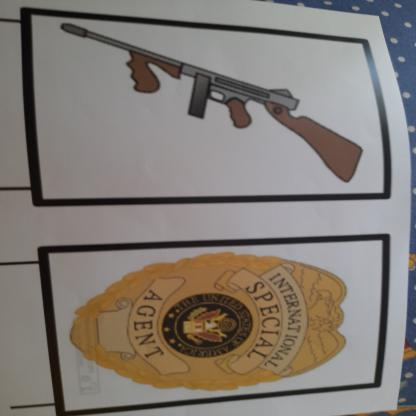Bootlegger: (35, 21, 379, 197)
G-man: (46, 253, 378, 404)
